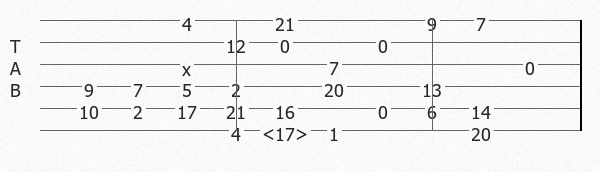0: (280, 34, 294, 51), (378, 34, 392, 51), (378, 100, 392, 117), (525, 56, 539, 73)
1: (329, 122, 343, 139)
10: (79, 100, 103, 117)
12: (226, 34, 250, 51)
13: (422, 78, 446, 95)
14: (471, 100, 495, 117)
16: (275, 100, 299, 117)
17: (177, 100, 201, 117)
2: (133, 100, 147, 117), (231, 78, 245, 95)
20: (324, 78, 348, 95), (471, 122, 495, 139)
21: (226, 100, 250, 117), (275, 12, 299, 29)
4: (182, 12, 196, 29), (231, 122, 245, 139)
5: (182, 78, 196, 95)
6: (427, 100, 441, 117)
7: (133, 78, 147, 95), (329, 56, 343, 73), (476, 12, 490, 29)
9: (84, 78, 98, 95), (427, 12, 441, 29)
harmonic: (262, 122, 312, 139)
x: (182, 57, 195, 71)
